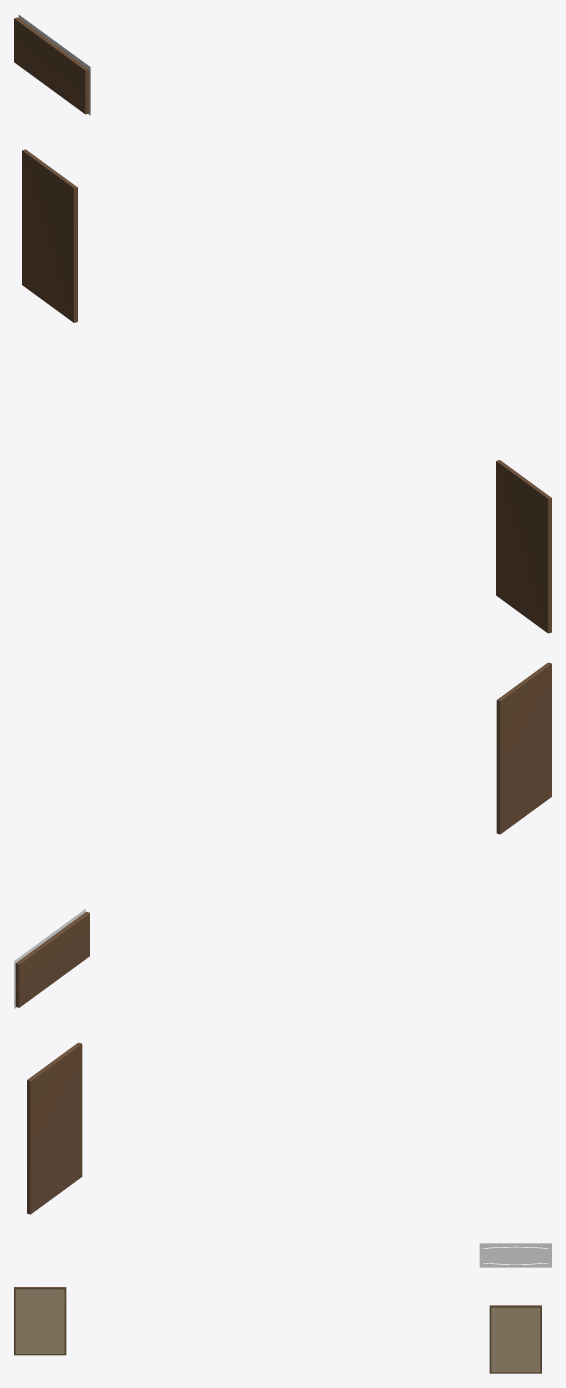
The model's file is club-decor-left.glb.
The picture shows the model from 3 angles, top to bottom: view 1: azimuth 30°, elevation 25°; view 2: azimuth 150°, elevation 25°; view 3: azimuth 270°, elevation 25°; orthographic projection. The views are drawn at different scales.
Parts seen in each view (by area): view 1: club-decor-left.001; view 2: club-decor-left.001; view 3: club-decor-left.001.
Boxes of the visible parts, <box> form: club-decor-left.001: <box>14,15,551,633</box>; club-decor-left.001: <box>14,662,551,1214</box>; club-decor-left.001: <box>14,1243,551,1373</box>.
Bounding box in the file's own units: 0.1535 × 4.3 × 15.97.
5 materials, 2 textured.
